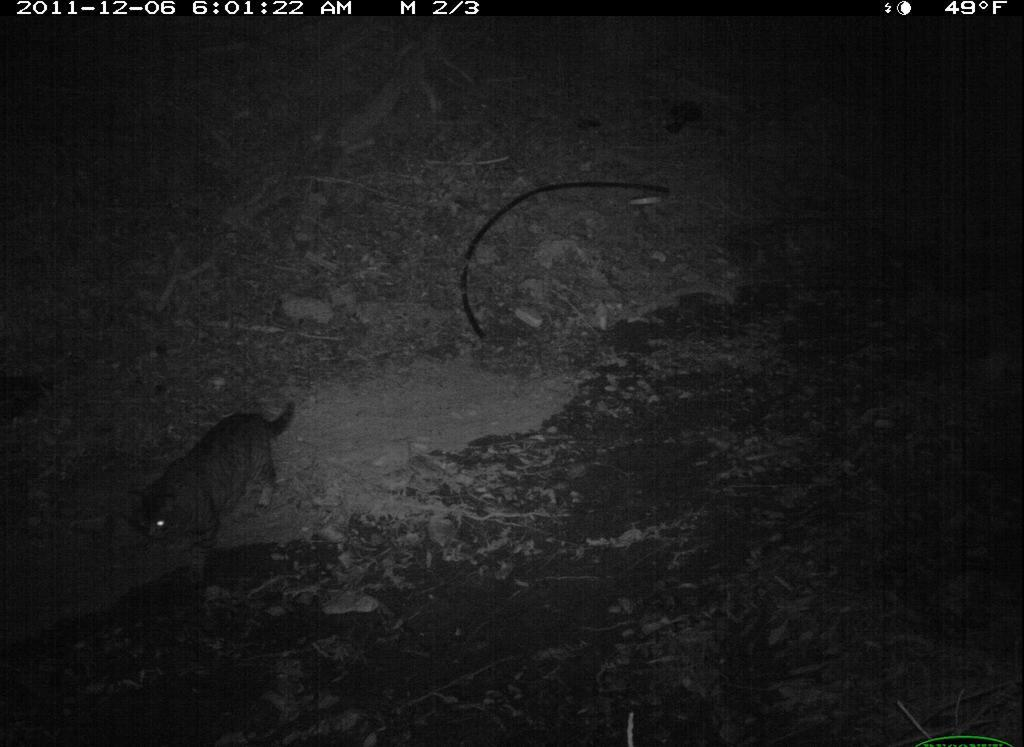cat: (119, 397, 317, 577)
